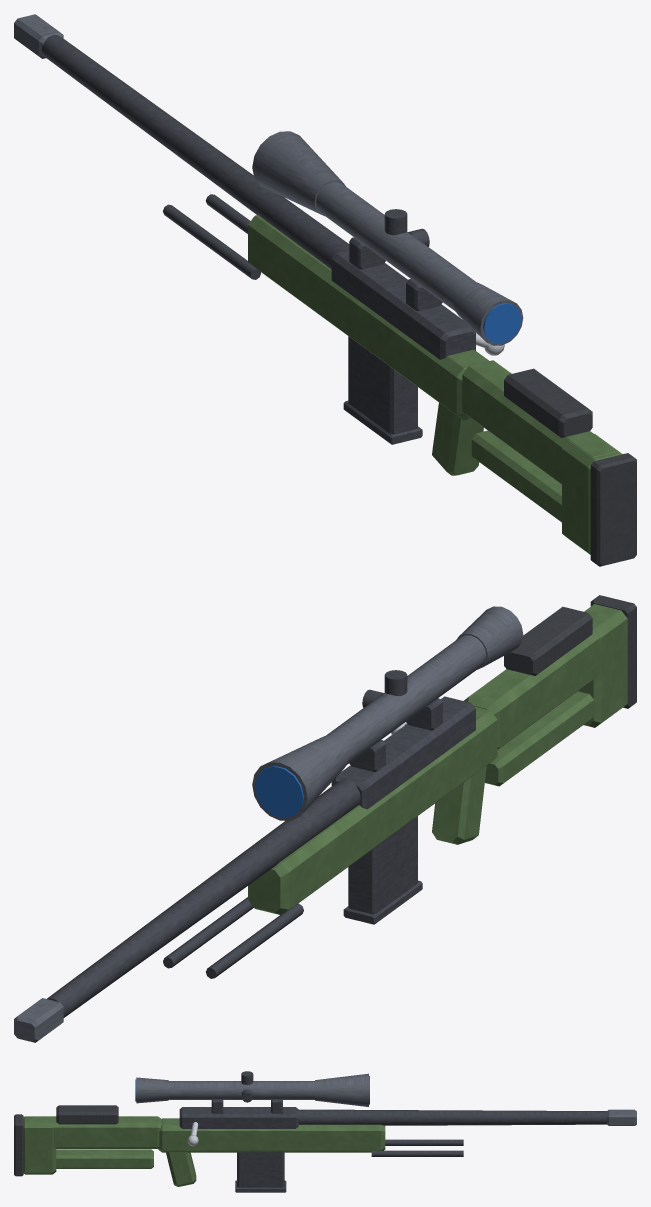
File: weapon_awp.glb
The picture shows the model from 3 angles, top to bottom: view 1: azimuth 30°, elevation 25°; view 2: azimuth 150°, elevation 25°; view 3: azimuth 270°, elevation 25°; orthographic projection. The views are drawn at different scales.
Parts seen in each view (by area): view 1: WeaponRoot, Magazine; view 2: WeaponRoot, Magazine; view 3: WeaponRoot, Magazine.
Part boxes in pixels (box(x1,y1,x2,y2)): WeaponRoot: box(14, 14, 636, 566); Magazine: box(343, 336, 422, 444); WeaponRoot: box(14, 595, 636, 1042); Magazine: box(343, 816, 422, 924); WeaponRoot: box(14, 1071, 636, 1186); Magazine: box(235, 1152, 286, 1192).
Size of the model in its own units: 0.0935 by 0.235 by 1.15.
Materials: 6 (6 with a texture image).
